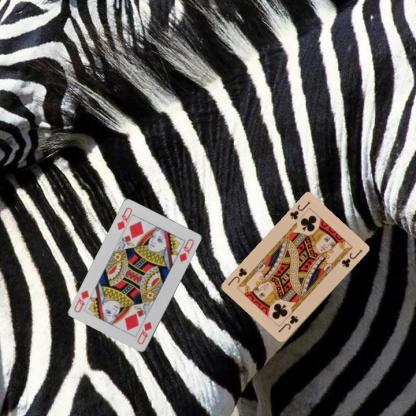Jc: (275, 312, 300, 334), (287, 199, 312, 221)
Qd: (114, 205, 134, 235), (135, 319, 153, 346)
